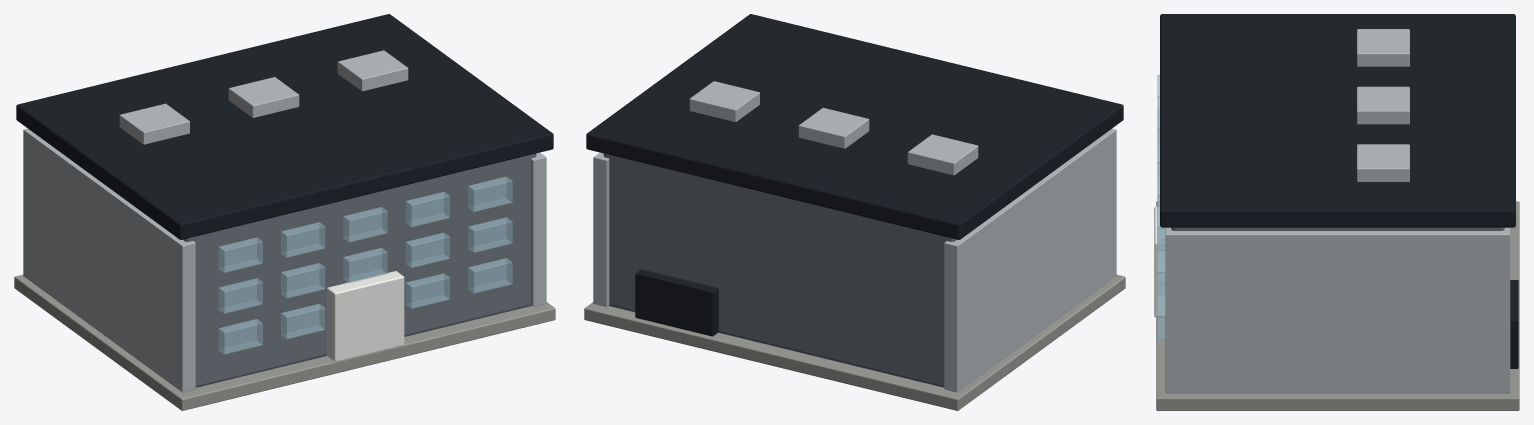
Rendered from building_summit_lodge_exterior_v01.glb.
The picture shows the model from 3 angles, left to right: view 1: azimuth 30°, elevation 25°; view 2: azimuth 150°, elevation 25°; view 3: azimuth 270°, elevation 25°; orthographic projection. The views are drawn at different scales.
Visible parts, largest first — view 1: component__roof_line__roof_line, component__primary_massing__primary_massing, component__facade_material_breaks__facade_break.001, component__foundation__foundation, component__entrance__entrance, component__facade_material_breaks__facade_break, component__roof_line__rooftop_service.002, component__roof_line__rooftop_service, component__roof_line__rooftop_service.001, component__window_system__window.005, component__window_system__window.009, component__window_system__window.011 (+11 smaller); view 2: component__roof_line__roof_line, component__primary_massing__primary_massing, component__facade_material_breaks__facade_break.001, component__foundation__foundation, component__service_side__service_side, component__facade_material_breaks__facade_break, component__roof_line__rooftop_service.002, component__roof_line__rooftop_service.001, component__roof_line__rooftop_service; view 3: component__roof_line__roof_line, component__facade_material_breaks__facade_break, component__foundation__foundation, component__roof_line__rooftop_service.002, component__roof_line__rooftop_service.001, component__roof_line__rooftop_service, component__primary_massing__primary_massing, component__service_side__service_side, component__entrance__entrance, component__window_system__window.005, component__window_system__window.010.
Part boxes in pixels (x1=…): component__roof_line__roof_line: x1=16, y1=14, x2=553, y2=239; component__primary_massing__primary_massing: x1=183, y1=153, x2=536, y2=387; component__facade_material_breaks__facade_break.001: x1=23, y1=128, x2=195, y2=392; component__foundation__foundation: x1=14, y1=274, x2=555, y2=410; component__entrance__entrance: x1=326, y1=271, x2=404, y2=361; component__facade_material_breaks__facade_break: x1=530, y1=152, x2=546, y2=306; component__roof_line__rooftop_service.002: x1=228, y1=77, x2=299, y2=117; component__roof_line__rooftop_service: x1=337, y1=50, x2=408, y2=91; component__roof_line__rooftop_service.001: x1=119, y1=103, x2=189, y2=144; component__window_system__window.005: x1=468, y1=258, x2=512, y2=293; component__window_system__window.009: x1=405, y1=232, x2=449, y2=267; component__window_system__window.011: x1=218, y1=237, x2=262, y2=272; component__roof_line__roof_line: x1=586, y1=14, x2=1123, y2=239; component__primary_massing__primary_massing: x1=603, y1=153, x2=956, y2=387; component__facade_material_breaks__facade_break.001: x1=944, y1=128, x2=1116, y2=392; component__foundation__foundation: x1=584, y1=274, x2=1125, y2=410; component__service_side__service_side: x1=635, y1=269, x2=718, y2=336; component__facade_material_breaks__facade_break: x1=593, y1=152, x2=609, y2=306; component__roof_line__rooftop_service.002: x1=798, y1=107, x2=869, y2=148; component__roof_line__rooftop_service.001: x1=907, y1=134, x2=978, y2=175; component__roof_line__rooftop_service: x1=689, y1=81, x2=759, y2=121; component__roof_line__roof_line: x1=1160, y1=14, x2=1515, y2=227; component__facade_material_breaks__facade_break: x1=1165, y1=227, x2=1510, y2=393; component__foundation__foundation: x1=1156, y1=201, x2=1519, y2=410; component__roof_line__rooftop_service.002: x1=1357, y1=86, x2=1409, y2=124; component__roof_line__rooftop_service.001: x1=1357, y1=29, x2=1409, y2=66; component__roof_line__rooftop_service: x1=1357, y1=144, x2=1409, y2=181; component__primary_massing__primary_massing: x1=1171, y1=227, x2=1504, y2=230; component__service_side__service_side: x1=1510, y1=280, x2=1518, y2=368; component__entrance__entrance: x1=1154, y1=206, x2=1165, y2=317; component__window_system__window.005: x1=1157, y1=294, x2=1165, y2=338; component__window_system__window.010: x1=1157, y1=250, x2=1165, y2=294.
Bounding box in the file's own units: 17.28 × 8.73 × 13.51.
